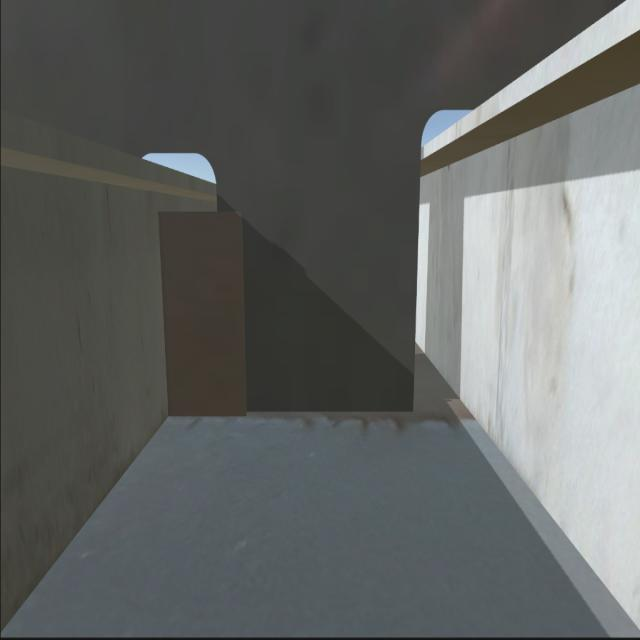fillet_yong_jeop_jang: (170, 408, 418, 418)
longi_yong_jeop_jang: (158, 220, 172, 420)
plate_CP01: (159, 209, 246, 413)
